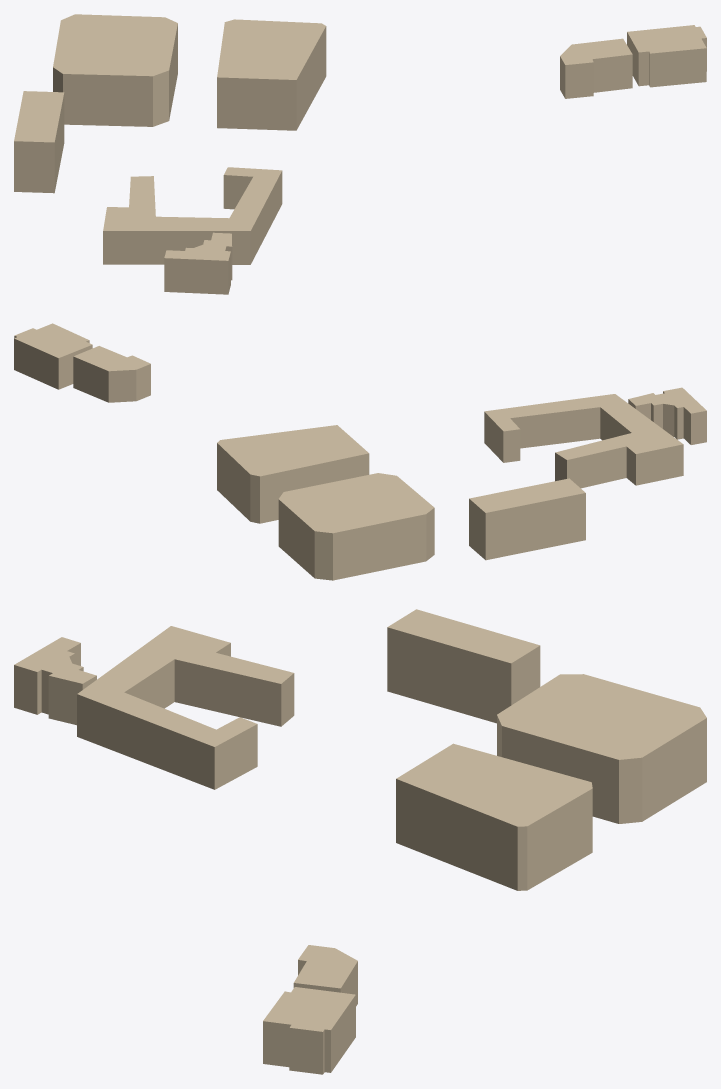
File: 11_0-estimated-coarse.glb
3 renders of one model, top to bottom at view 1: azimuth 30°, elevation 25°; view 2: azimuth 150°, elevation 25°; view 3: azimuth 270°, elevation 25°, orthographic. The views are drawn at different scales.
Bounding box in the file's own units: 244 × 18 × 176.
